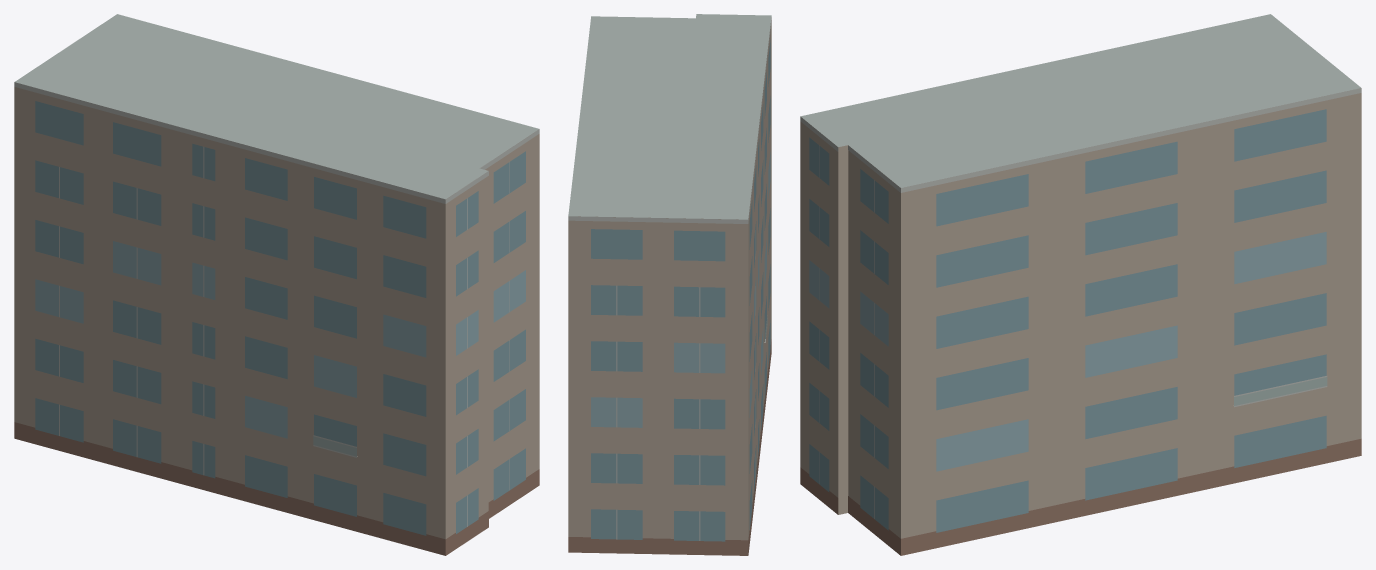
Rendered from survey-upis-32655966.glb.
3 views of the same model, side by side, from view 1: azimuth 30°, elevation 25°; view 2: azimuth 150°, elevation 25°; view 3: azimuth 270°, elevation 25° (orthographic). The views are drawn at different scales.
Parts seen in each view (by area): view 1: survey-upis-32655966.tmp; view 2: survey-upis-32655966.tmp; view 3: survey-upis-32655966.tmp.
Boxes of the visible parts, left/top/right/bottom form: survey-upis-32655966.tmp: left=14, top=14, right=539, bottom=555; survey-upis-32655966.tmp: left=568, top=14, right=771, bottom=555; survey-upis-32655966.tmp: left=800, top=14, right=1361, bottom=555.
Size of the model in its own units: 18.69 by 18.4 by 25.46.
